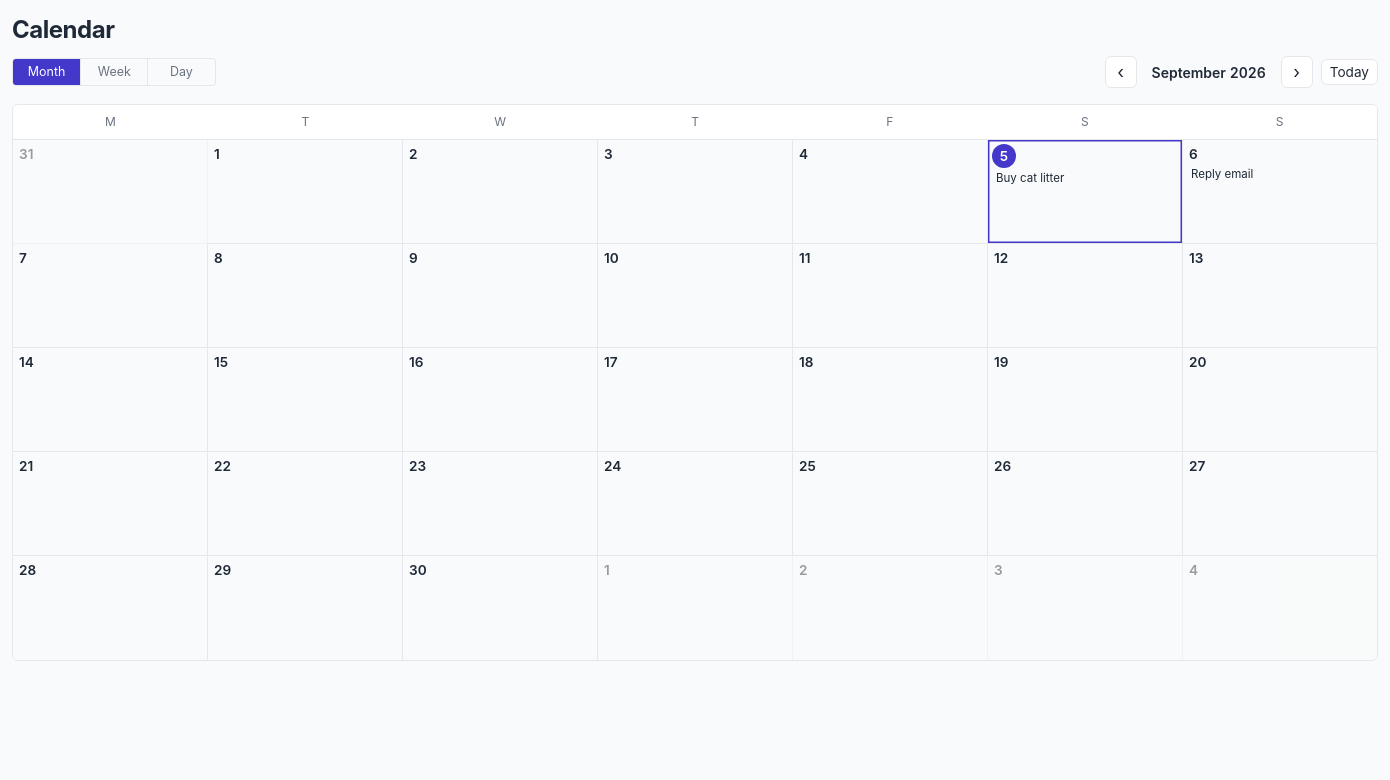
CalendarView › keeps week view aligned after month navigation
This screenshot has width=1390, height=780.
Click the button named "Next month". click: (1297, 72)
box: [1281,56,1313,88]
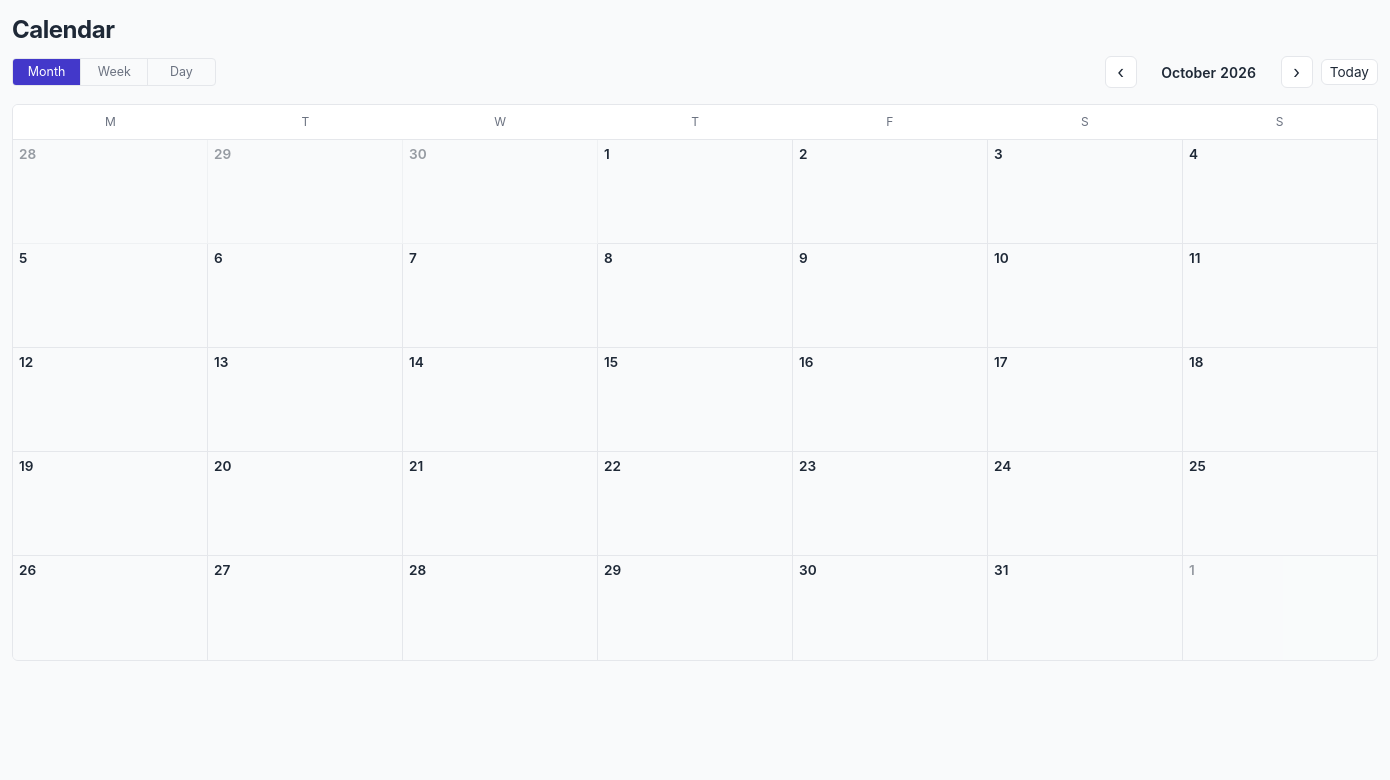
Click the button "Week". click: (114, 72)
box: [80,59,147,85]
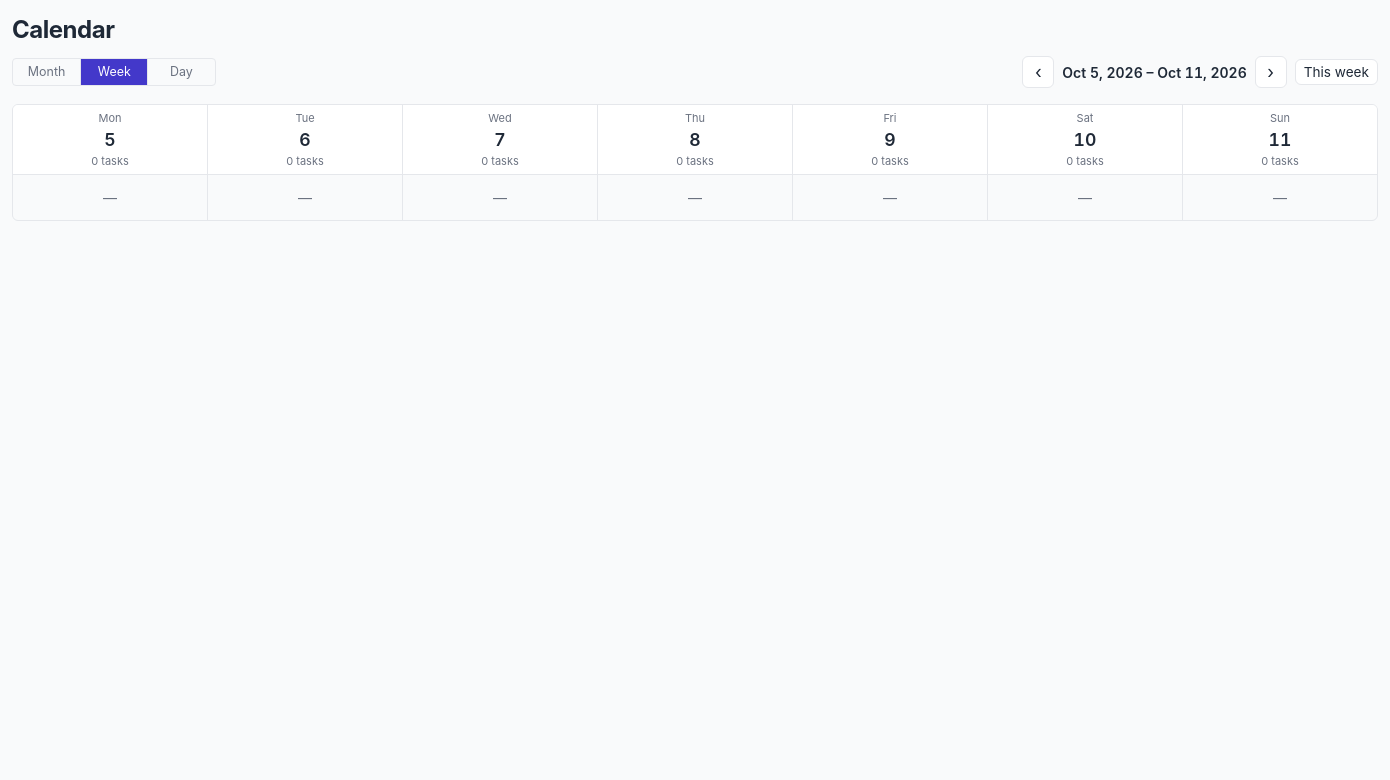
Check: the text "Oct 5, 2026 – Oct 11, 2026" is shown, box [1062,62,1247,82]
